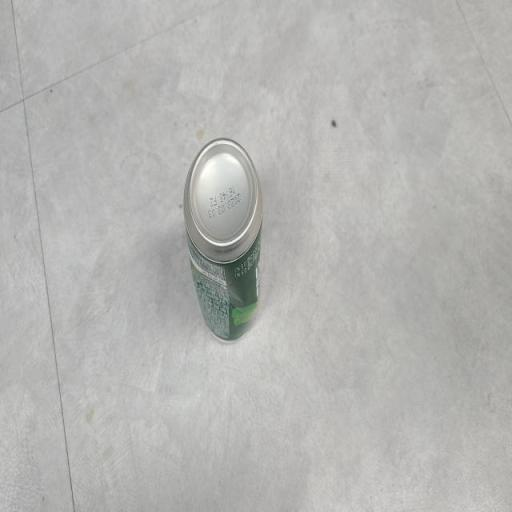metal: (164, 123, 304, 385)
